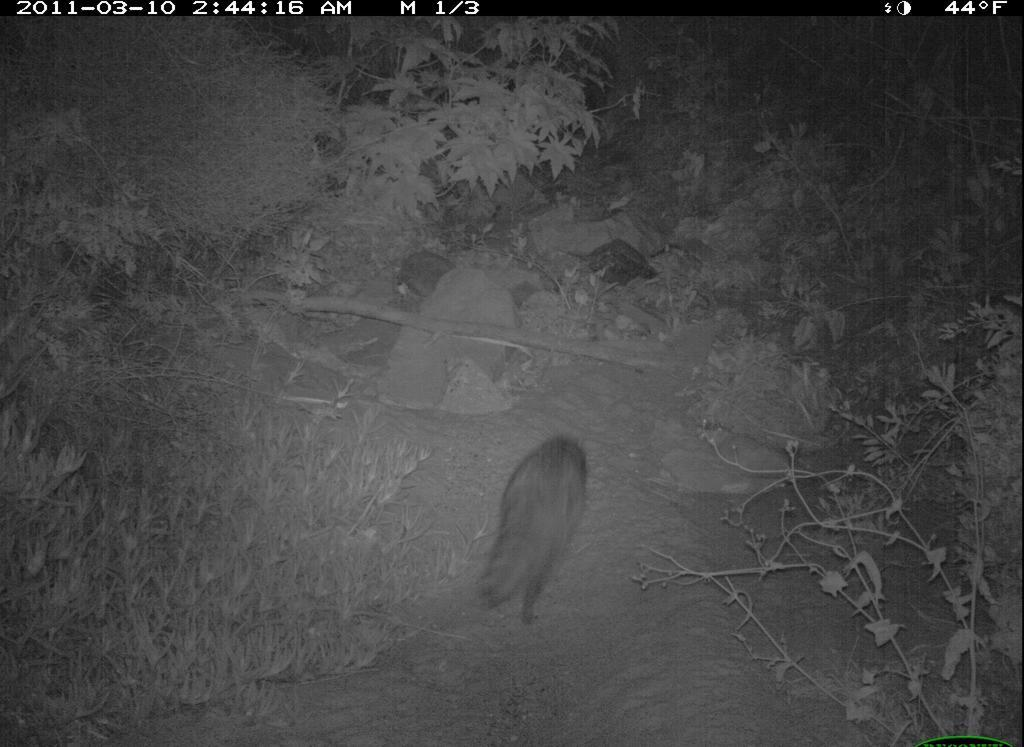raccoon: (473, 428, 602, 637)
